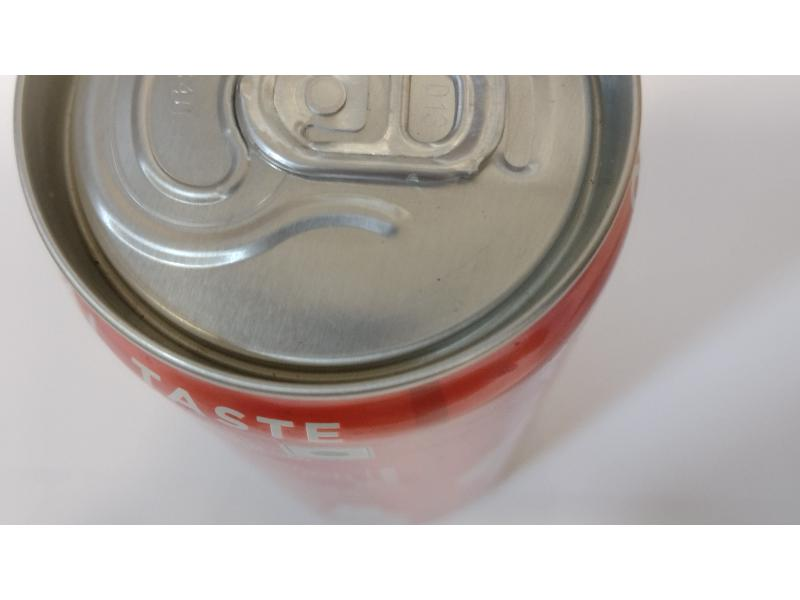can: (13, 73, 646, 434)
